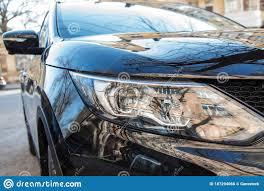front-bumper-dent: (56, 116, 217, 177)
